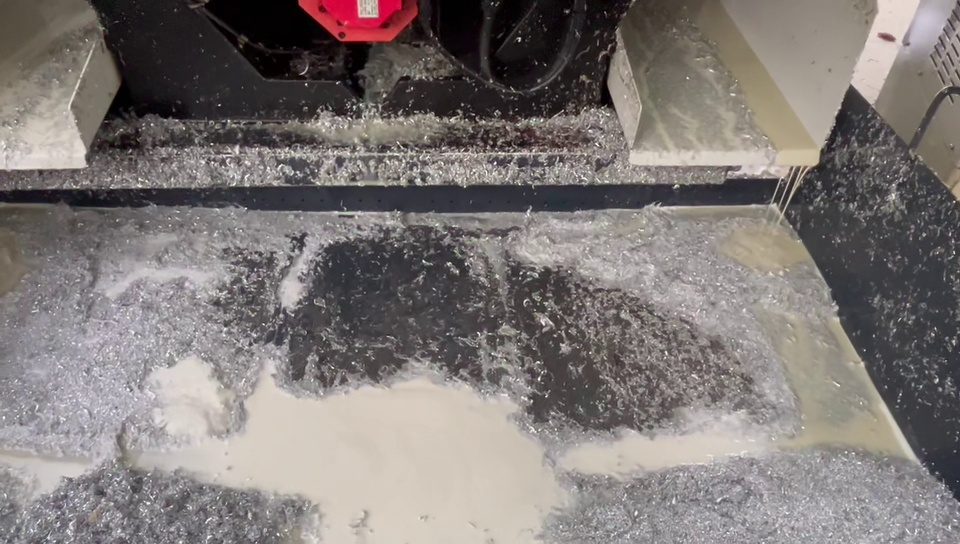iron_scrap: (554, 450, 949, 541), (525, 211, 831, 317), (4, 469, 300, 544), (325, 111, 625, 183), (4, 276, 119, 458), (9, 213, 290, 267), (122, 284, 258, 388), (96, 119, 276, 183)
